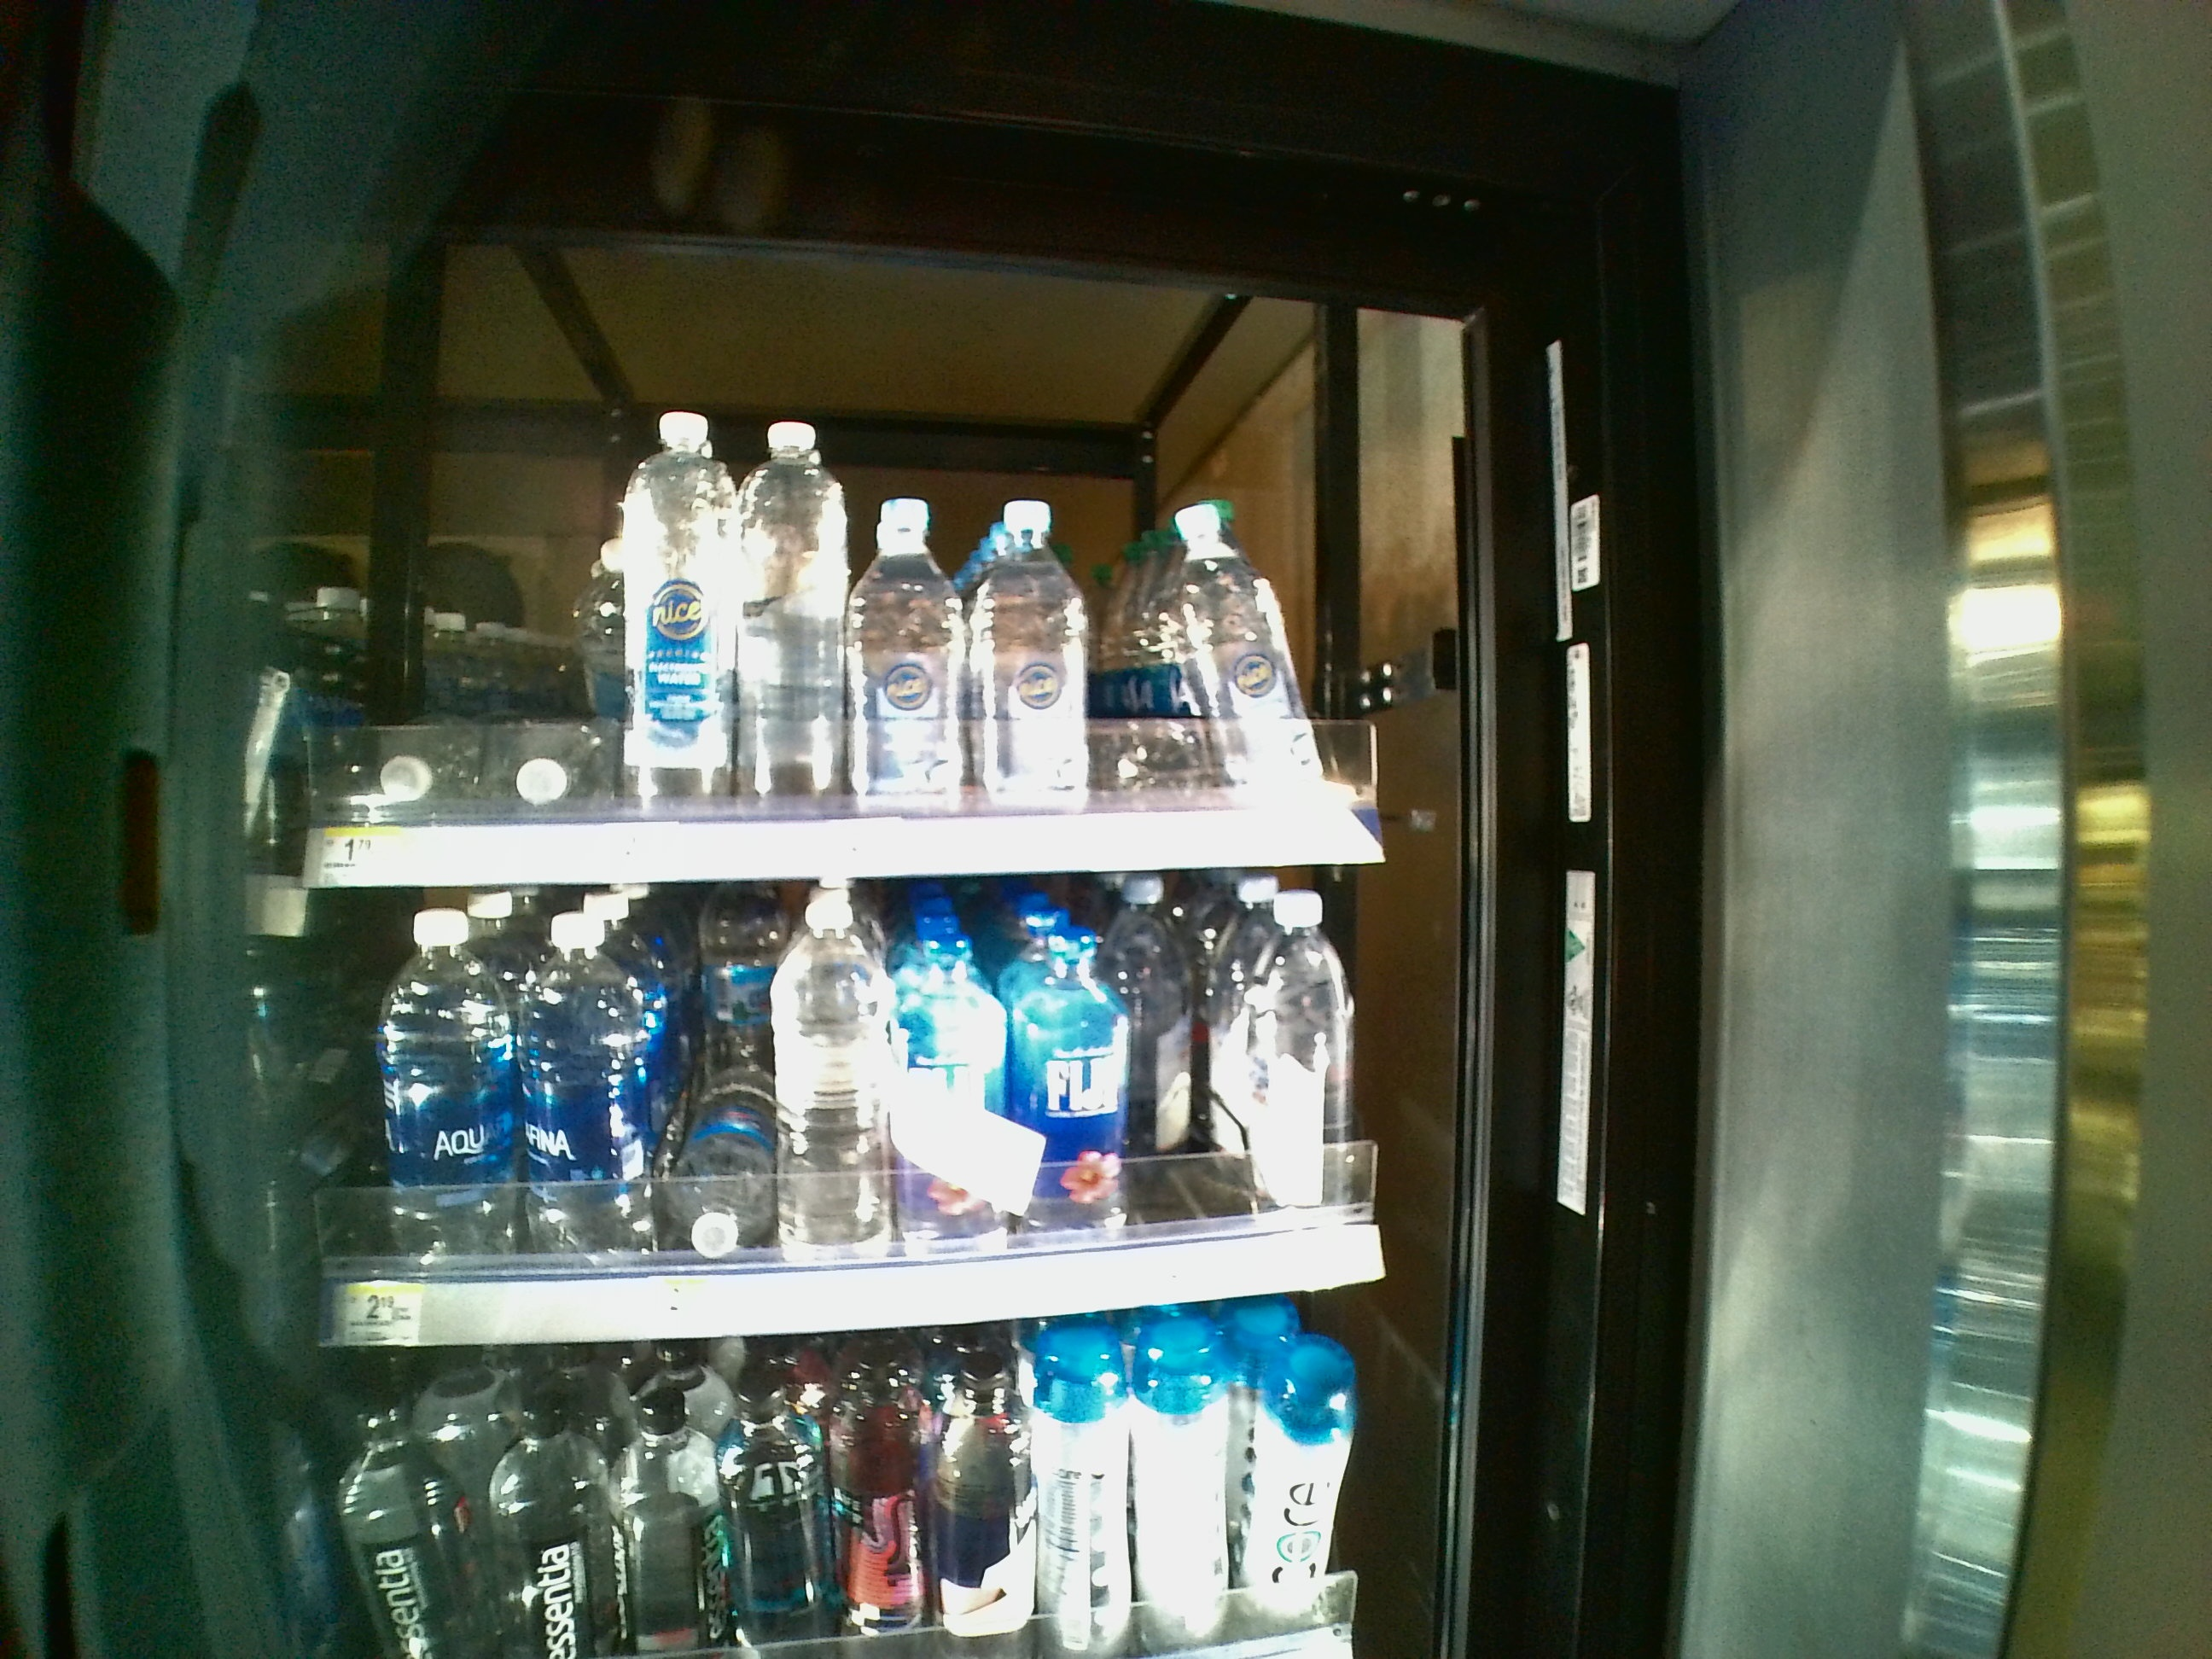shelf: (246, 300, 1559, 878), (251, 882, 1439, 1349)
